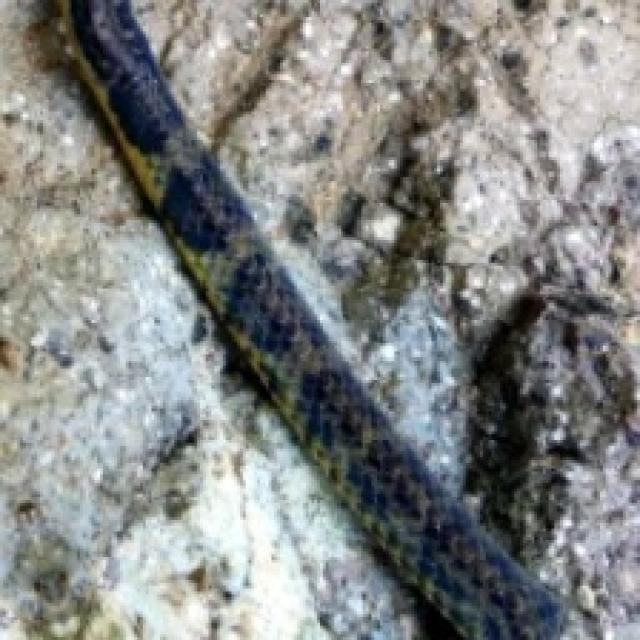luzon dwarf snake: (57, 0, 560, 637)
